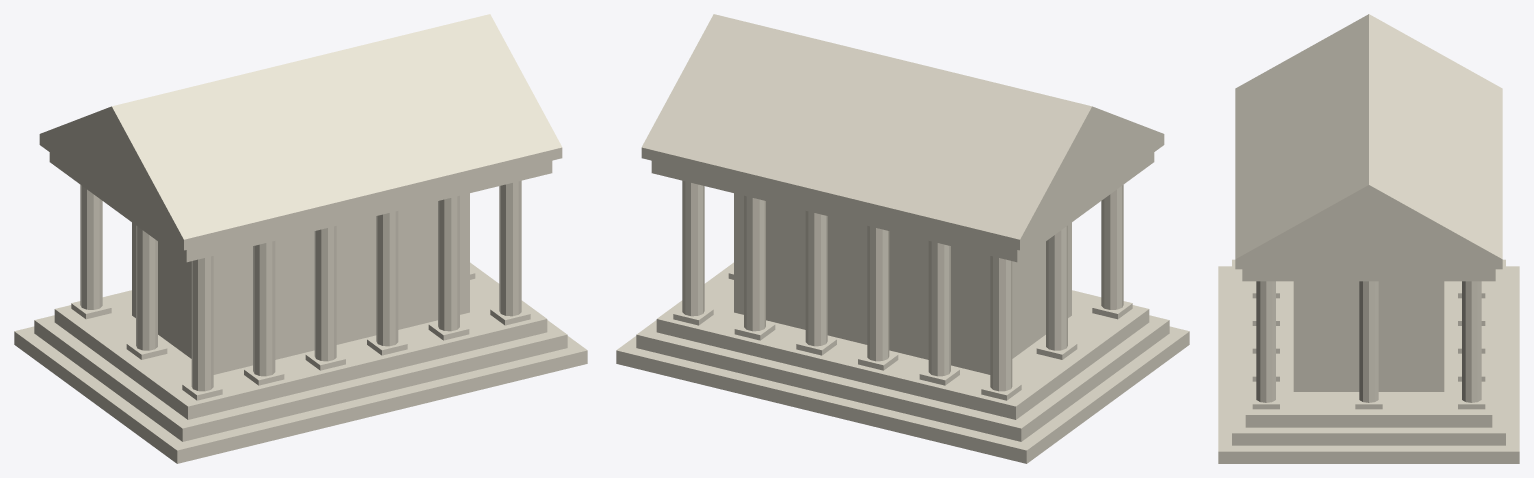
Rendered from HistoricalMonument.obj.
The picture shows the model from 3 angles, left to right: view 1: azimuth 30°, elevation 25°; view 2: azimuth 150°, elevation 25°; view 3: azimuth 270°, elevation 25°; orthographic projection. The views are drawn at different scales.
Visible parts, largest first — view 1: Monument3D; view 2: Monument3D; view 3: Monument3D.
Boxes of the visible parts, x1,y1,x2,y2 form: Monument3D: (14, 14, 587, 463); Monument3D: (616, 14, 1189, 463); Monument3D: (1218, 14, 1519, 463).
Size of the model in its own units: 3.2 by 2.19 by 2.2.
